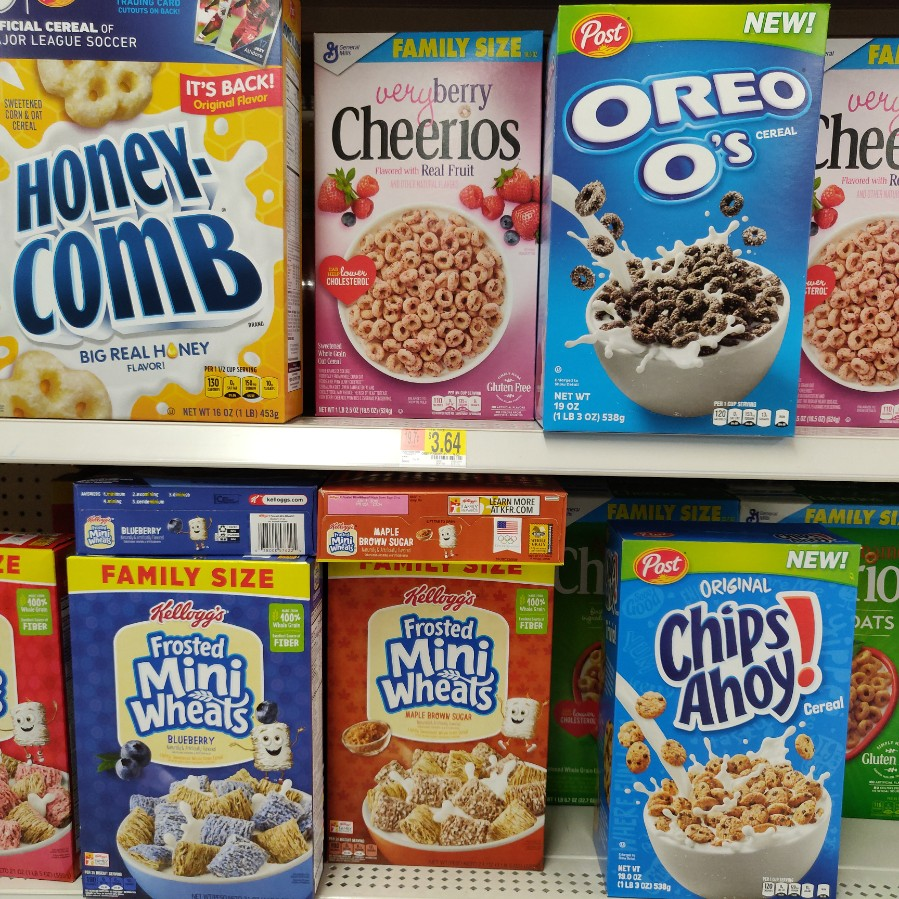Chips Ahoys-565717529: (619, 535, 860, 899)
Honey Comb- 009288857: (3, 1, 283, 420)
Oreo-563424384: (550, 6, 831, 439)
